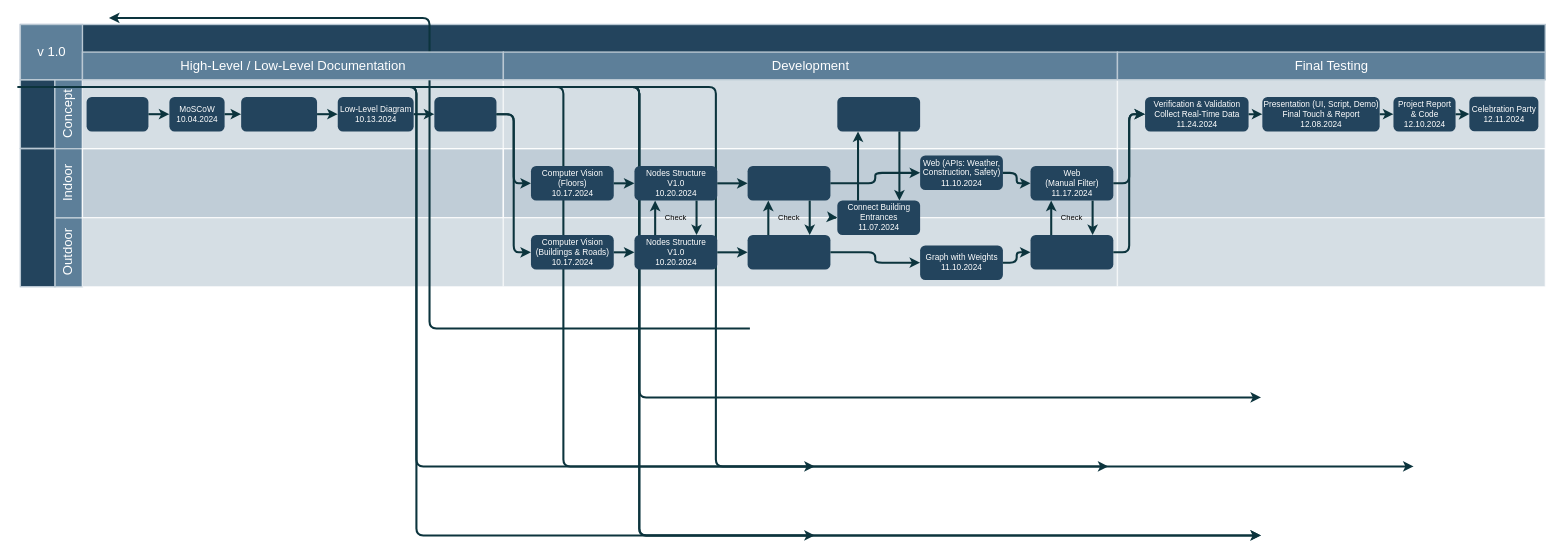
Some shapes in this 1558 by 553 pixel diagram are drawn without their labels. Each missing label, with the box of its shape:
A* 11.03.2024: (747, 235, 830, 269)
Brainstorming 10.01.2024: (86, 97, 148, 131)
Dijkstra's 11.03.2024: (747, 166, 830, 200)
ECS 170 - CampusDisrupt Team Timeline: (19, 23, 1546, 80)
High-Level Diagram 10.09.2024: (241, 97, 317, 131)
Main: (19, 79, 55, 149)
Project Check-In 11.08.2024: (837, 97, 920, 131)
Software Teams: (19, 148, 55, 287)
UML Diagram 10.15.2024: (434, 97, 496, 131)
Weights with APIs 11.17.2024: (1030, 235, 1113, 269)
